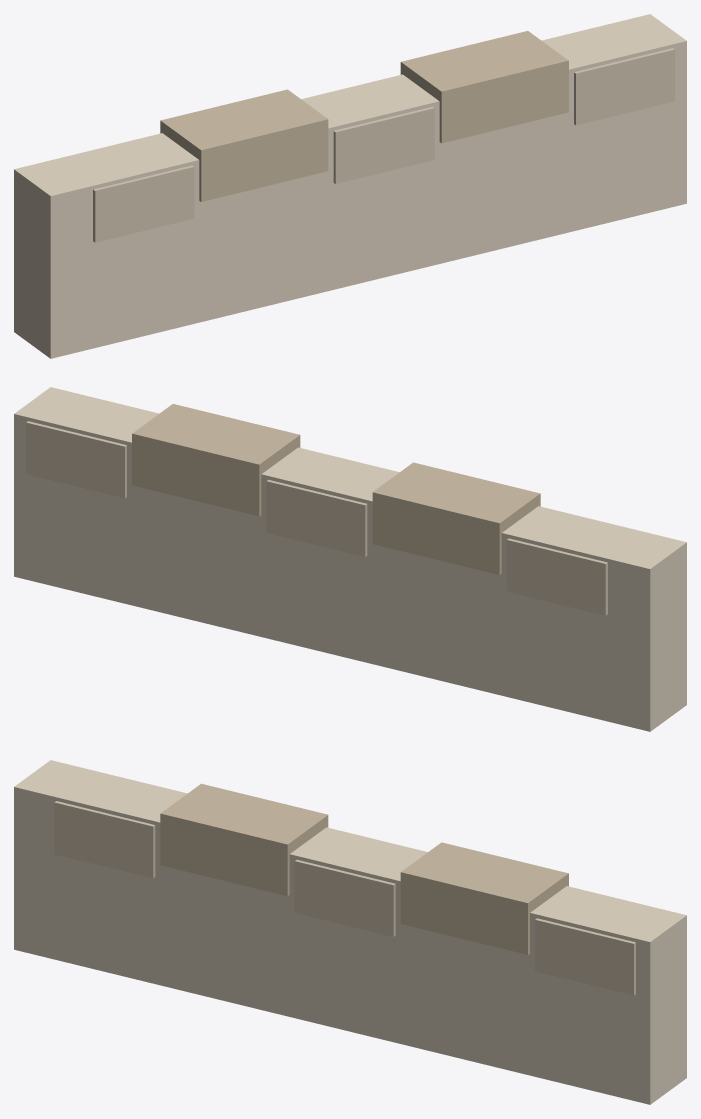
The model's file is stone-wall.glb.
3 renders of one model, top to bottom at view 1: azimuth 30°, elevation 25°; view 2: azimuth 150°, elevation 25°; view 3: azimuth 330°, elevation 25°, orthographic.
Visible parts, largest first — view 1: StoneWall; view 2: StoneWall; view 3: StoneWall.
Part boxes in pixels (x1,y1,x2,y2): StoneWall: [14, 14, 686, 358]; StoneWall: [14, 387, 686, 731]; StoneWall: [14, 760, 686, 1104].
Size of the model in its own units: 4.5 by 1.18 by 0.5.
